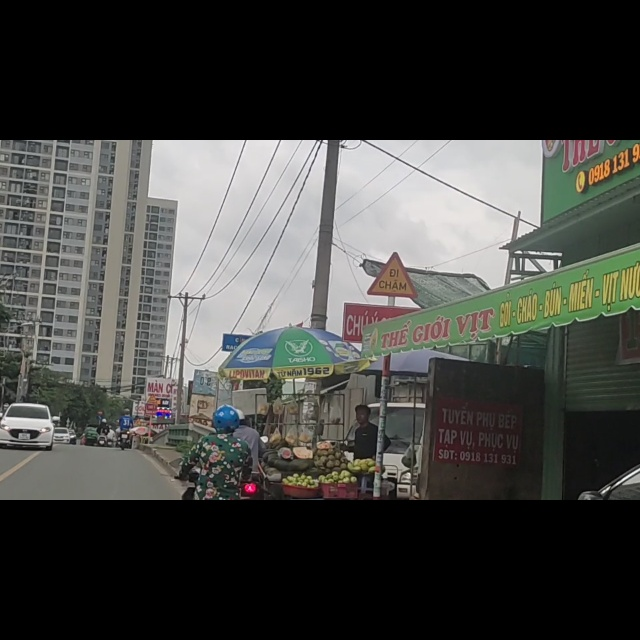bien_cam: (368, 194, 421, 281)
